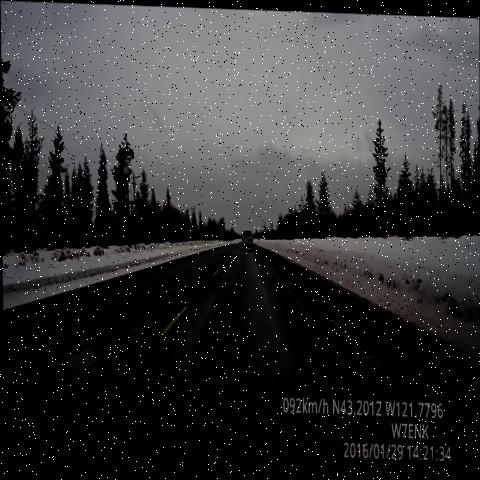pothole: (34, 332, 116, 406), (107, 307, 145, 341)
